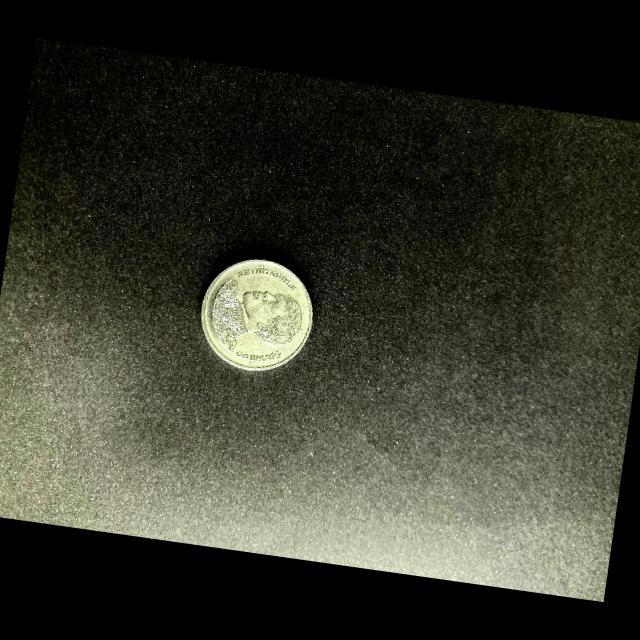1 Bath: (198, 256, 316, 374)
